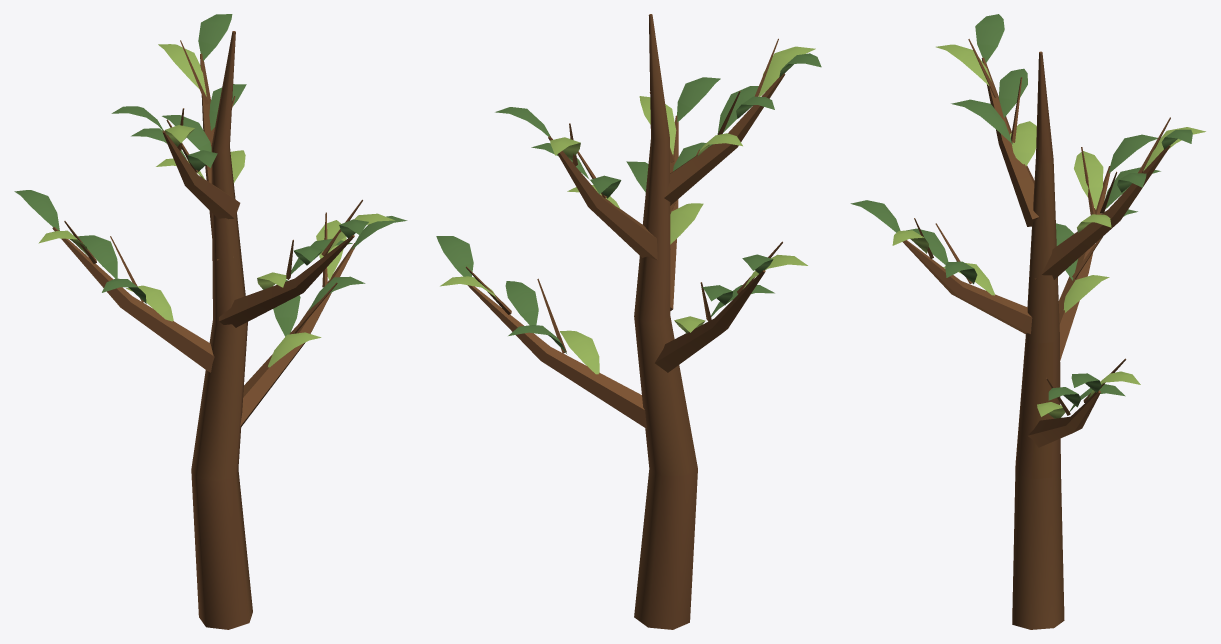
Rendered from crop_apple_tree_growing.glb.
3 views of the same model, side by side, from view 1: azimuth 30°, elevation 25°; view 2: azimuth 150°, elevation 25°; view 3: azimuth 270°, elevation 25° (orthographic). The views are drawn at different scales.
Parts seen in each view (by area): view 1: apple_b_0, apple_leaf_0_1, apple_leaf_0_0; view 2: apple_b_0, apple_leaf_0_1, apple_leaf_0_0; view 3: apple_b_0, apple_leaf_0_1, apple_leaf_0_0.
Boxes of the visible parts, bbox=[...] form: apple_b_0: bbox=[52, 31, 362, 629]; apple_leaf_0_1: bbox=[14, 14, 407, 336]; apple_leaf_0_0: bbox=[38, 44, 394, 367]; apple_b_0: bbox=[465, 14, 785, 629]; apple_leaf_0_1: bbox=[436, 53, 821, 353]; apple_leaf_0_0: bbox=[440, 46, 815, 374]; apple_b_0: bbox=[902, 39, 1170, 629]; apple_leaf_0_1: bbox=[850, 14, 1192, 411]; apple_leaf_0_0: bbox=[892, 44, 1205, 418].
Bounding box in the file's own units: 1.14 × 1.75 × 0.9827.
